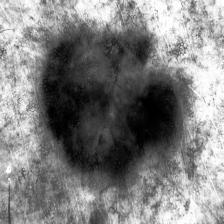Benign Marking or Mole: (40, 19, 182, 190)
